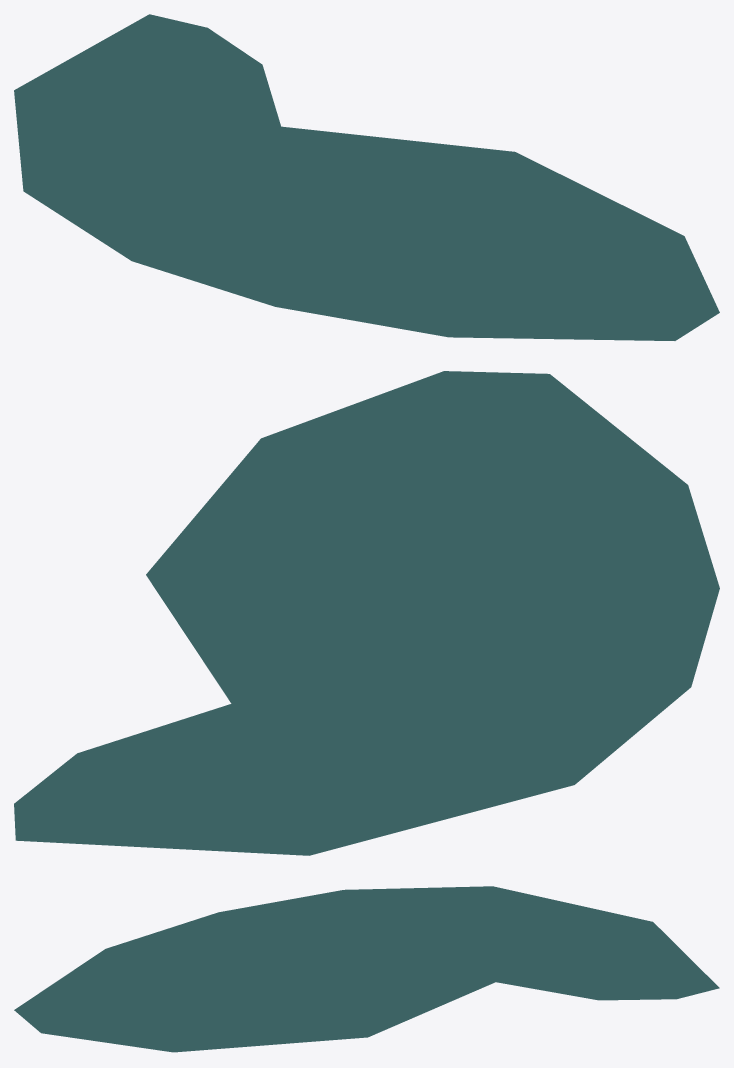
The model's file is WingL.glb.
3 views of the same model, one above another, from view 1: azimuth 30°, elevation 25°; view 2: azimuth 150°, elevation 25°; view 3: azimuth 270°, elevation 25° (orthographic). The views are drawn at different scales.
Visible parts, largest first — view 1: WingL; view 2: WingL; view 3: WingL.
Boxes of the visible parts, left/top/right/bottom form: WingL: left=14, top=14, right=719, bottom=340; WingL: left=14, top=371, right=719, bottom=855; WingL: left=14, top=886, right=719, bottom=1052.
Bounding box in the file's own units: 0.4142 × 0.00142 × 0.7434.
